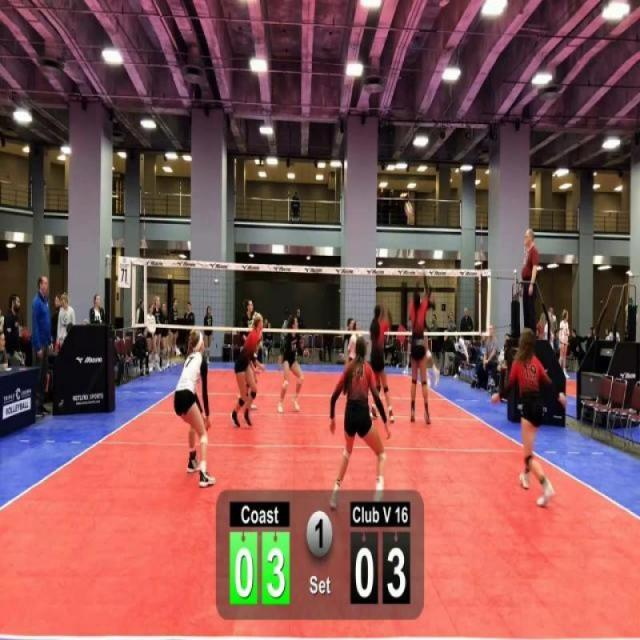volleyball: (403, 198, 414, 218)
